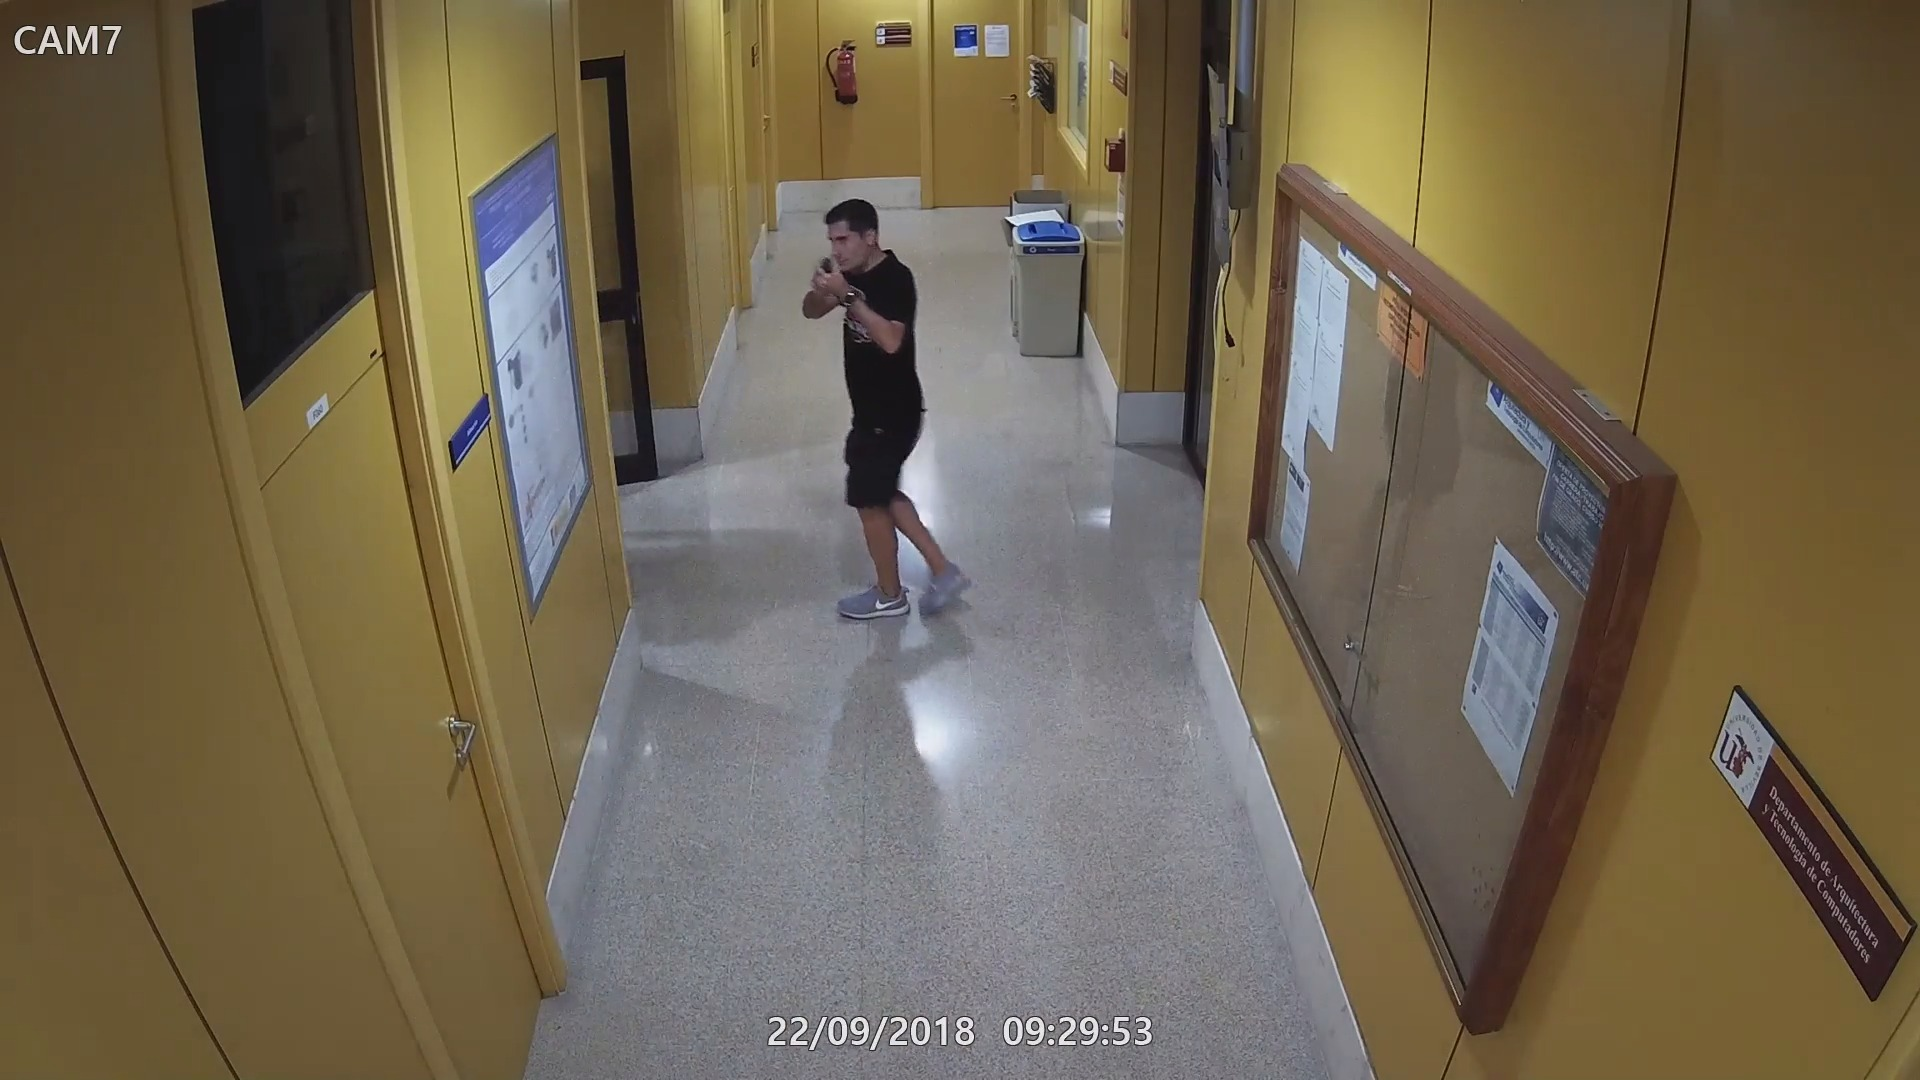Handgun: (807, 255, 847, 305)
